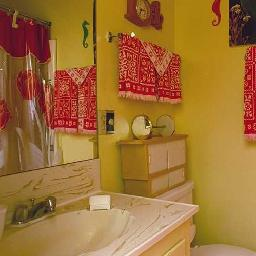Lavamanos: (2, 194, 137, 255)
